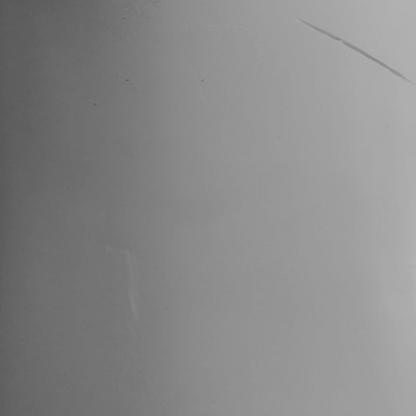sunshang: (302, 21, 411, 84)
